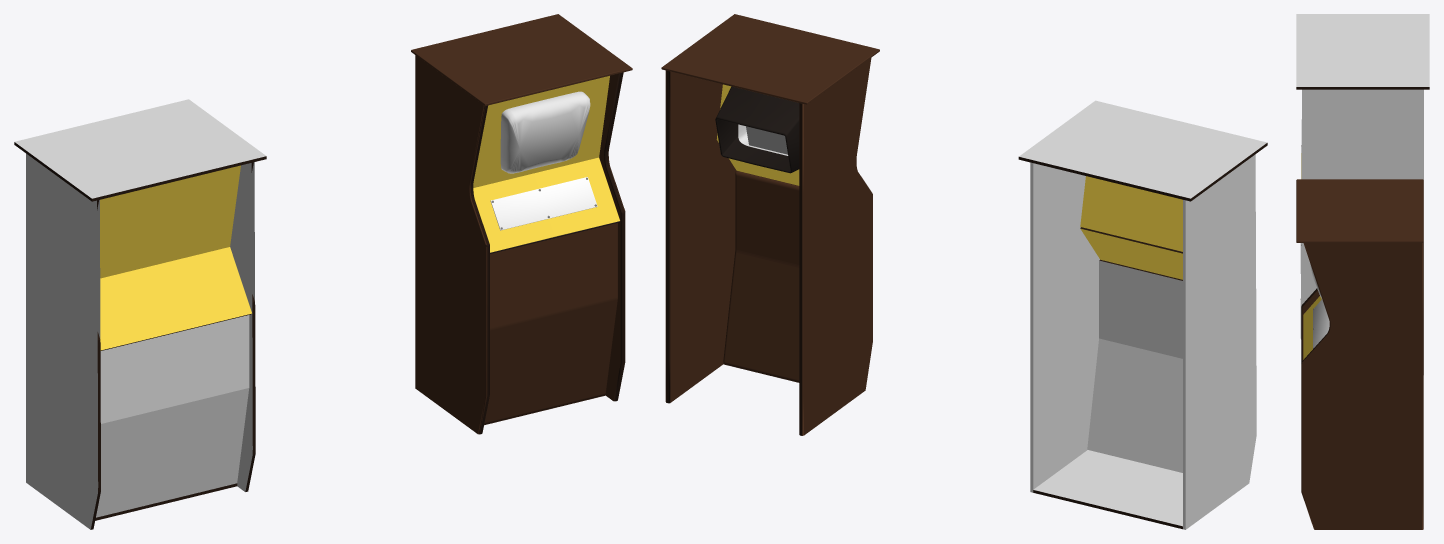
File: arcade_pong_cabinet.fbx
3 renders of one model, left to right at view 1: azimuth 30°, elevation 25°; view 2: azimuth 150°, elevation 25°; view 3: azimuth 270°, elevation 25°, orthographic. The views are drawn at different scales.
Parts seen in each view (by area): view 1: ArcadePongCabinetCaseCoverSide, ArcadePongCabinet.Case.Side.Right, ArcadePongCabinetCaseCoverFront, ArcadePongCabinet.Case.Top, ArcadePongCabinet.Case.Front.Down, ArcadePongCabinetCaseCoverTop, ArcadePongCabinet.Case.Front.Up, ArcadePongCabinet.Case.Screen.Up, ArcadePongCabinet.Case.Screen.Down, ArcadePongCabinetScreenCover, ArcadePongCabinetScreenCover.Mask, ArcadePongCabinet.Case.Side.Left (+1 smaller); view 2: ArcadePongCabinetCaseCoverSide, ArcadePongCabinet.Case.Side.Right, ArcadePongCabinet.Case.Side.Left, ArcadePongCabinet.Case.Top, ArcadePongCabinetCaseCoverFront, ArcadePongCabinetCaseCoverTop, ArcadePongCabinet.Case.Front.Down, ArcadePongCabinet.Case.Bottom, ArcadePongCabinet.Case.Front.Up, ArcadePongCabinet.Case.Screen.Up, ArcadePongCabinetScreenSlot, ArcadePongCabinet.Case.Screen.Down (+2 smaller); view 3: ArcadePongCabinetCaseCoverSide, ArcadePongCabinet.Case.Side.Left, ArcadePongCabinet.Case.Top, ArcadePongCabinetCaseCoverTop, ArcadePongCabinetControlPlate, ArcadePongCabinetScreenCover.
Part boxes in pixels (box(x1,y1,x2,y2)): ArcadePongCabinetCaseCoverSide: box(415, 55, 625, 434); ArcadePongCabinet.Case.Side.Right: box(26, 153, 100, 529); ArcadePongCabinetCaseCoverFront: box(484, 223, 617, 425); ArcadePongCabinet.Case.Top: box(14, 99, 266, 201); ArcadePongCabinet.Case.Front.Down: box(96, 388, 249, 517); ArcadePongCabinetCaseCoverTop: box(411, 14, 632, 105); ArcadePongCabinet.Case.Front.Up: box(100, 315, 249, 423); ArcadePongCabinet.Case.Screen.Up: box(100, 165, 240, 278); ArcadePongCabinet.Case.Screen.Down: box(100, 247, 251, 350); ArcadePongCabinetScreenCover: box(473, 76, 619, 252); ArcadePongCabinetScreenCover.Mask: box(500, 91, 590, 173); ArcadePongCabinet.Case.Side.Left: box(230, 162, 255, 491); ArcadePongCabinetCaseCoverSide: box(665, 58, 872, 435); ArcadePongCabinet.Case.Side.Right: box(1183, 154, 1256, 529); ArcadePongCabinet.Case.Side.Left: box(1030, 162, 1099, 492); ArcadePongCabinet.Case.Top: box(1018, 100, 1267, 201); ArcadePongCabinetCaseCoverFront: box(723, 170, 799, 382); ArcadePongCabinetCaseCoverTop: box(661, 14, 879, 104); ArcadePongCabinet.Case.Front.Down: box(1087, 338, 1182, 472); ArcadePongCabinet.Case.Bottom: box(1033, 450, 1182, 529); ArcadePongCabinet.Case.Front.Up: box(1099, 259, 1182, 358); ArcadePongCabinet.Case.Screen.Up: box(1080, 176, 1182, 251); ArcadePongCabinetScreenSlot: box(715, 86, 799, 173); ArcadePongCabinet.Case.Screen.Down: box(1080, 227, 1182, 279); ArcadePongCabinetCaseCoverSide: box(1301, 243, 1423, 529); ArcadePongCabinet.Case.Side.Left: box(1300, 89, 1423, 374); ArcadePongCabinet.Case.Top: box(1296, 14, 1429, 89); ArcadePongCabinetCaseCoverTop: box(1296, 179, 1423, 242); ArcadePongCabinetControlPlate: box(1313, 299, 1329, 348); ArcadePongCabinetScreenCover: box(1303, 296, 1321, 359).
Bounding box in the file's own units: 285 × 172 × 71.06.
